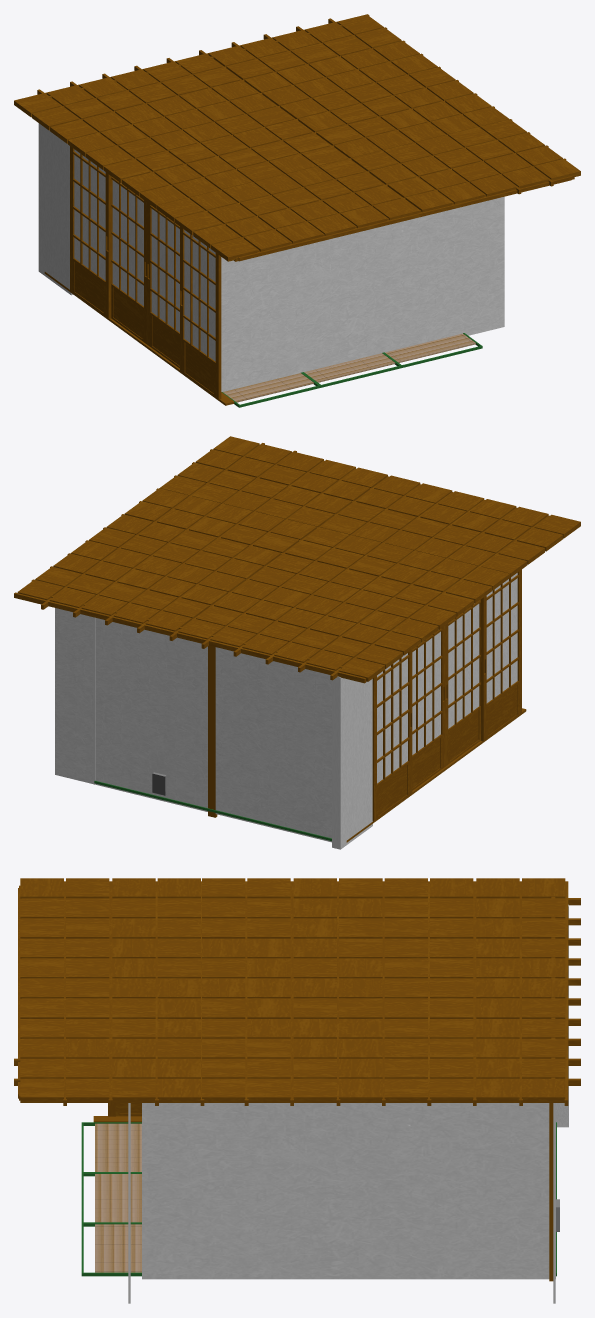
The model's file is room.obj.
The picture shows the model from 3 angles, top to bottom: view 1: azimuth 30°, elevation 25°; view 2: azimuth 150°, elevation 25°; view 3: azimuth 270°, elevation 25°; orthographic projection. The views are drawn at different scales.
Parts seen in each view (by area): view 1: 立方体.187, 立方体.181, 立方体.039, 立方体.018; view 2: 立方体.187, 立方体.181, 立方体.018; view 3: 立方体.187, 立方体.181, 立方体.039, 立方体.018.
Part boxes in pixels (x1=…): 立方体.187: x1=14, y1=14, x2=580, y2=405; 立方体.181: x1=38, y1=123, x2=504, y2=391; 立方体.039: x1=223, y1=333, x2=475, y2=402; 立方体.018: x1=222, y1=333, x2=482, y2=407; 立方体.187: x1=14, y1=436, x2=580, y2=842; 立方体.181: x1=55, y1=573, x2=517, y2=849; 立方体.018: x1=94, y1=781, x2=331, y2=841; 立方体.187: x1=14, y1=878, x2=580, y2=1281; 立方体.181: x1=128, y1=904, x2=568, y2=1303; 立方体.039: x1=95, y1=1123, x2=141, y2=1272; 立方体.018: x1=81, y1=1122, x2=556, y2=1276.
Bounding box in the file's own units: 122 × 59.89 × 133.
